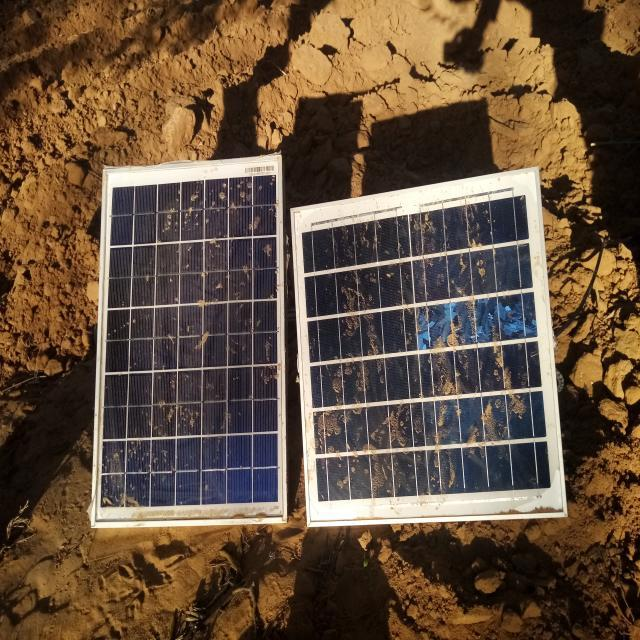faulty: (292, 168, 566, 525), (94, 156, 285, 526)
